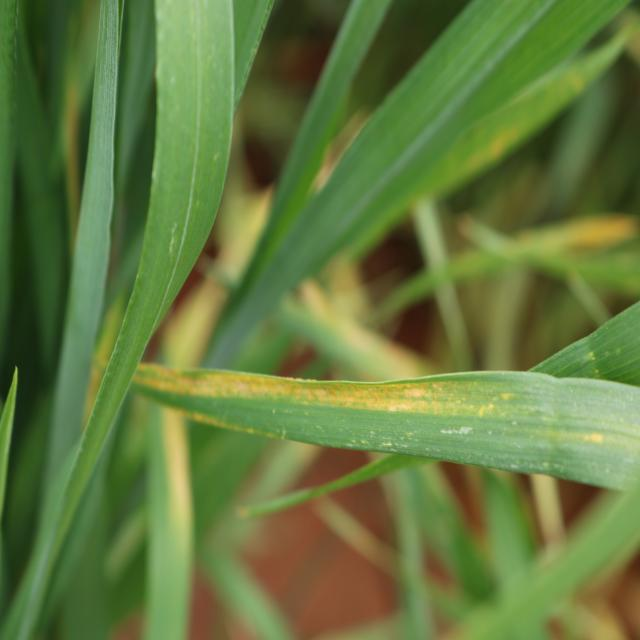Stripe Rust: (148, 365, 454, 419)
